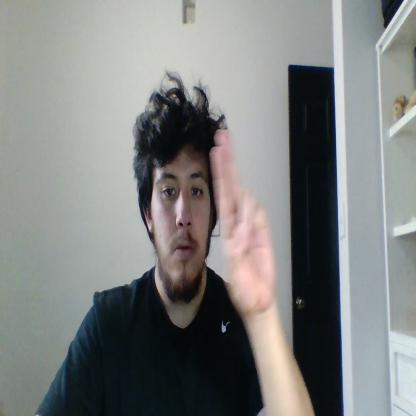U: (211, 126, 276, 314)
